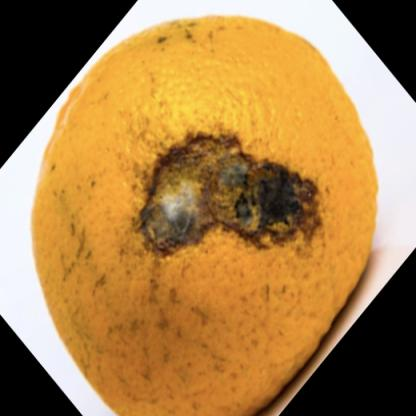rotten: (31, 16, 376, 416)
